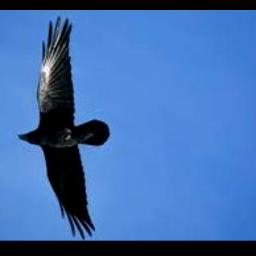Crow: (17, 18, 111, 241)
